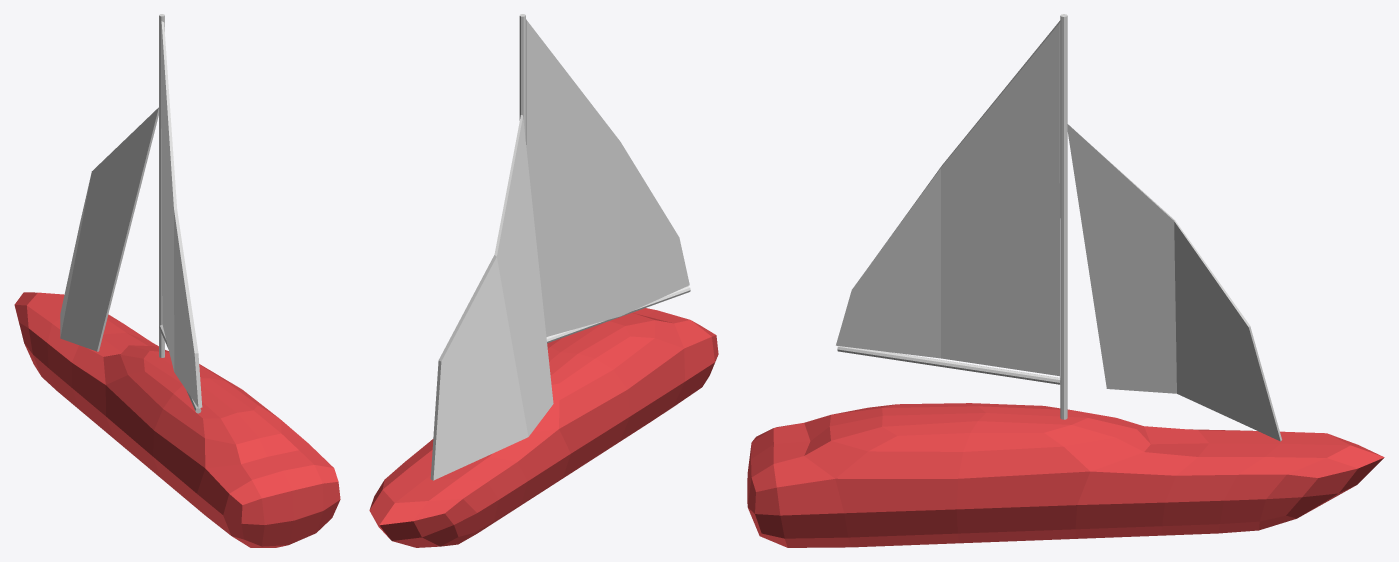
File: Sailboat.glb
3 views of the same model, side by side, from view 1: azimuth 30°, elevation 25°; view 2: azimuth 150°, elevation 25°; view 3: azimuth 270°, elevation 25° (orthographic). The views are drawn at different scales.
Parts seen in each view (by area): view 1: Boat, Cube.004, Cube.002, Cylinder.001; view 2: Boat, Cube.002, Cube.004, Cylinder.001, Cylinder.002; view 3: Boat, Cube.002, Cube.004, Cylinder.001, Cylinder.002.
Boxes of the visible parts, x1,y1,x2,y2 form: Boat: (14, 292, 340, 547); Cube.004: (60, 107, 158, 351); Cube.002: (161, 21, 202, 407); Cylinder.001: (159, 14, 164, 357); Boat: (369, 308, 718, 547); Cube.002: (526, 19, 689, 336); Cube.004: (430, 115, 553, 480); Cylinder.001: (519, 14, 525, 141); Cylinder.002: (546, 286, 690, 343); Boat: (747, 403, 1384, 547); Cube.002: (836, 20, 1060, 376); Cube.004: (1067, 124, 1281, 441); Cylinder.001: (1060, 14, 1067, 419); Cylinder.002: (837, 346, 1060, 384).
Bounding box in the file's own units: 1.75 × 6.39 × 7.02.
